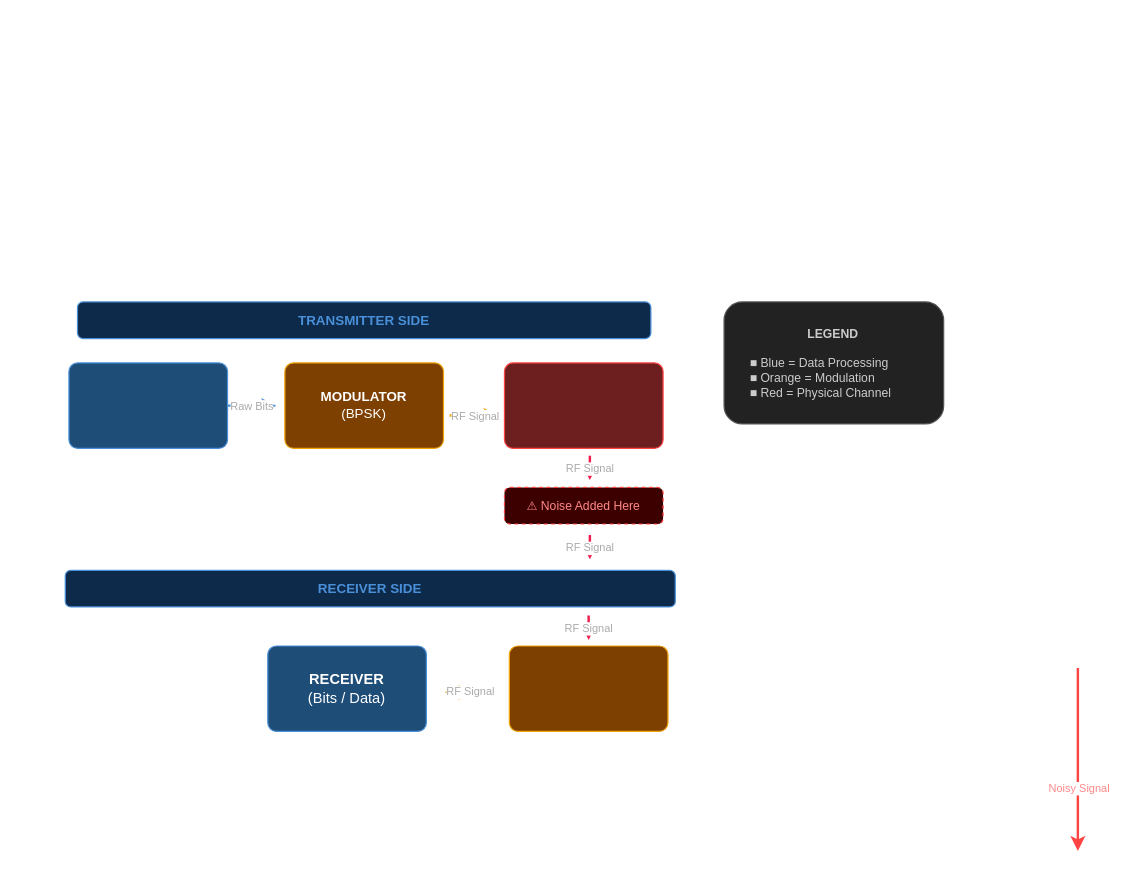
The diagram is 1130 pixels wide and 882 high, and some of its shapes have lost their labels. The shapes that lost their labels are listed below. From the top down, each one's centre as x and y in pixels, then its label:
At pixel 148 405: "SOURCE (Bits / Data)".
At pixel 583 405: "CHANNEL (AWGN)".
At pixel 588 688: "DEMODULATOR (Detection)".
